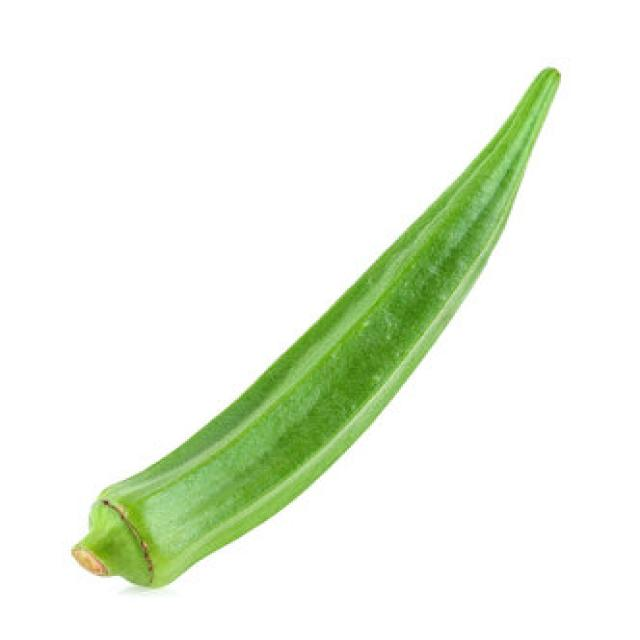Okra: (69, 64, 561, 588)
